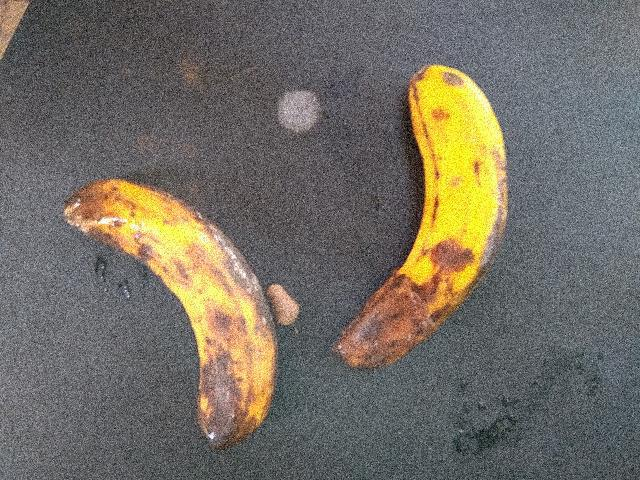rotten: (337, 55, 539, 394), (63, 172, 291, 469)
